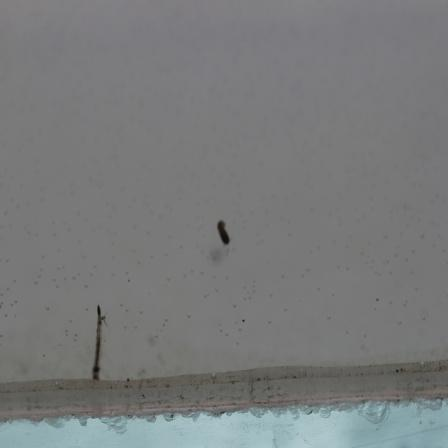Jentik-Nyamuk: (88, 300, 110, 383), (214, 215, 232, 249)
